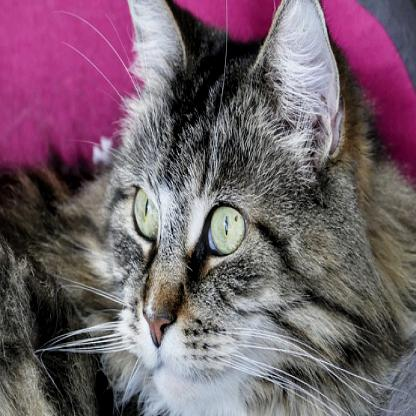cat: (95, 0, 375, 415)
